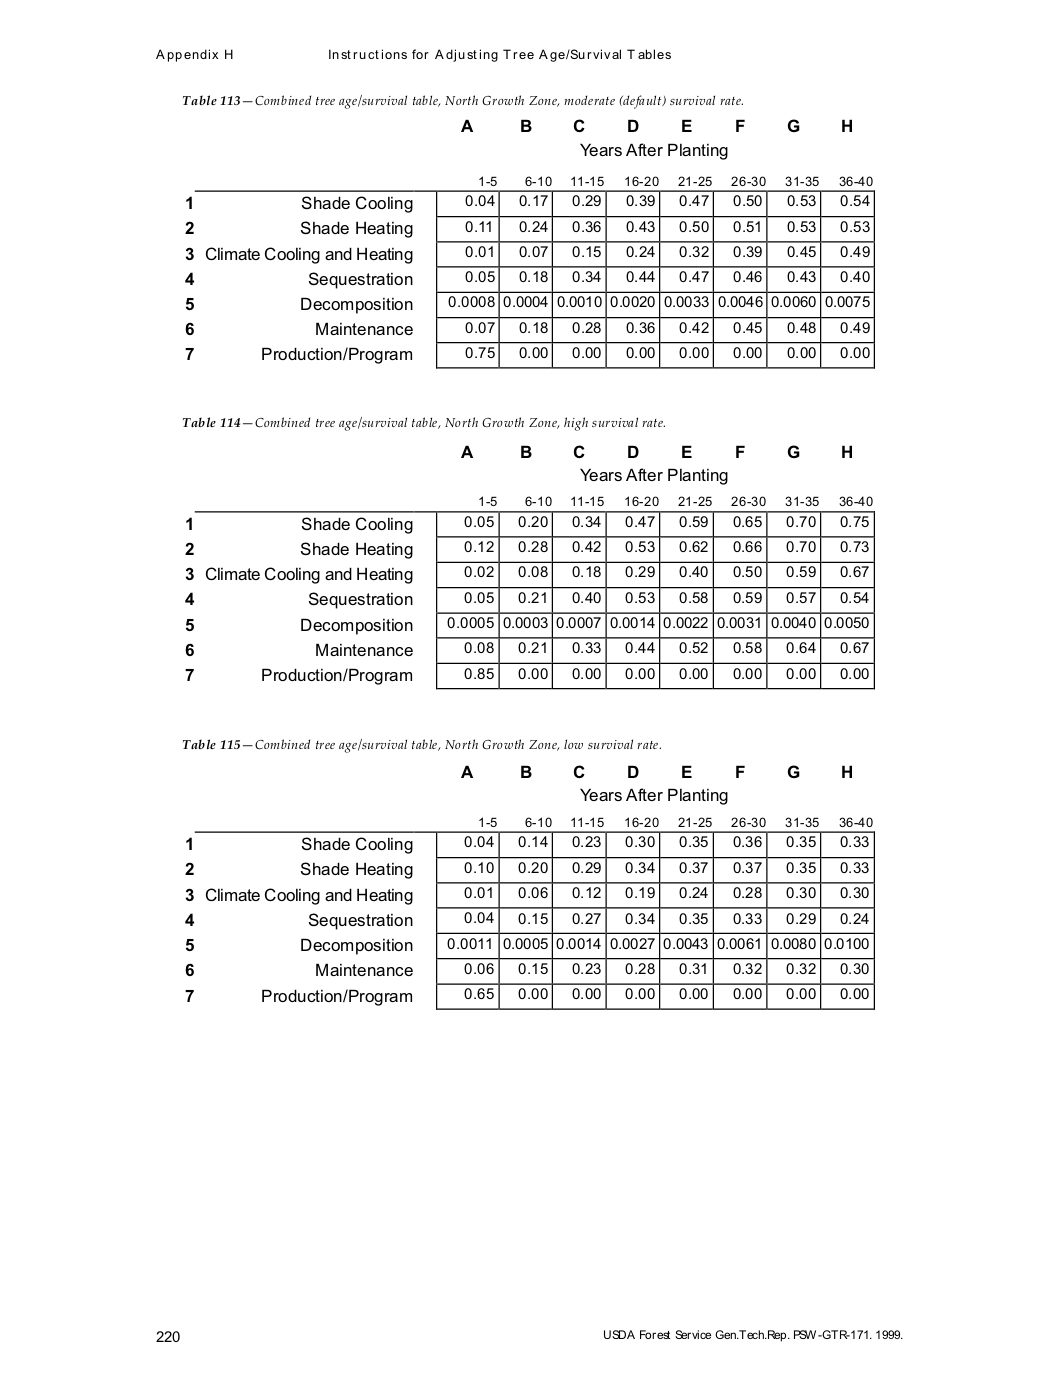Table: (185, 119, 874, 368), (185, 445, 874, 689), (185, 765, 874, 1009)
